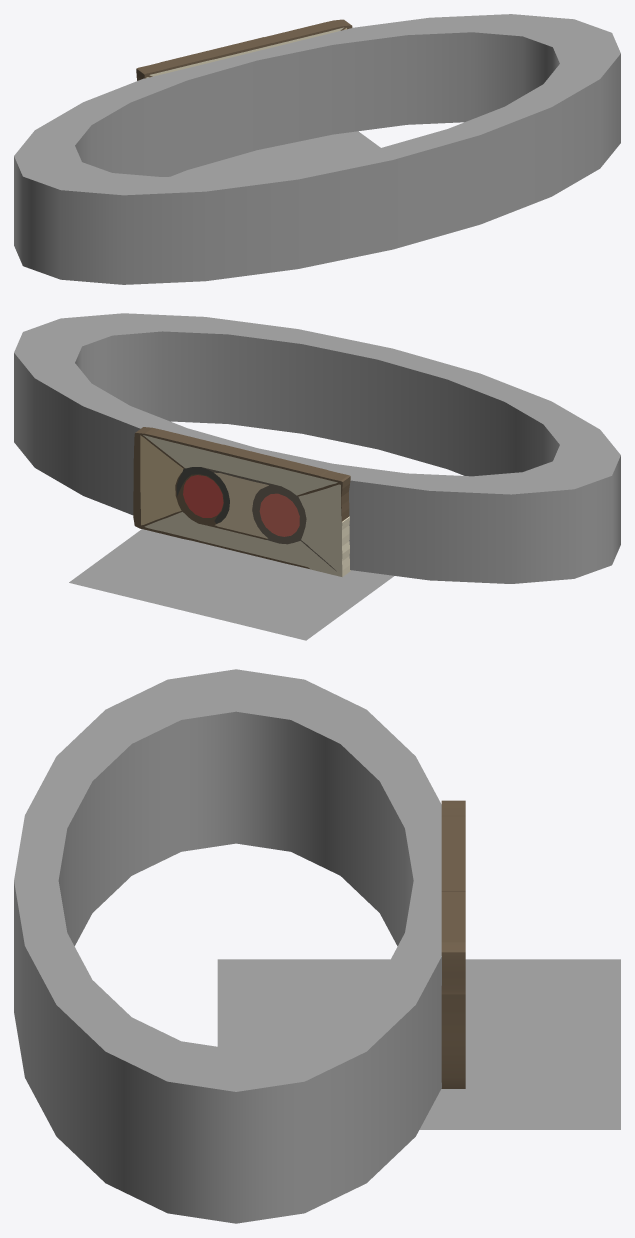
Rendered from Black RX Belt.fbx.
3 views of the same model, one above another, from view 1: azimuth 30°, elevation 25°; view 2: azimuth 150°, elevation 25°; view 3: azimuth 270°, elevation 25° (orthographic). The views are drawn at different scales.
Parts seen in each view (by area): view 1: pCylinder1, pPlane1, F4295D99_BB3E_439F_A76D_FF15E2D2E220; view 2: pCylinder1, F4295D99_BB3E_439F_A76D_FF15E2D2E220, pPlane1; view 3: pCylinder1, pPlane1, F4295D99_BB3E_439F_A76D_FF15E2D2E220.
Part boxes in pixels (bbox=[...]): pCylinder1: bbox=[14, 14, 620, 284]; pPlane1: bbox=[171, 131, 380, 176]; F4295D99_BB3E_439F_A76D_FF15E2D2E220: bbox=[136, 19, 352, 80]; pCylinder1: bbox=[14, 313, 620, 583]; F4295D99_BB3E_439F_A76D_FF15E2D2E220: bbox=[133, 427, 350, 577]; pPlane1: bbox=[69, 529, 393, 640]; pCylinder1: bbox=[14, 669, 441, 1223]; pPlane1: bbox=[217, 959, 620, 1129]; F4295D99_BB3E_439F_A76D_FF15E2D2E220: bbox=[441, 800, 465, 1088].
Size of the model in its own units: 60.3 by 11.39 by 36.59.
